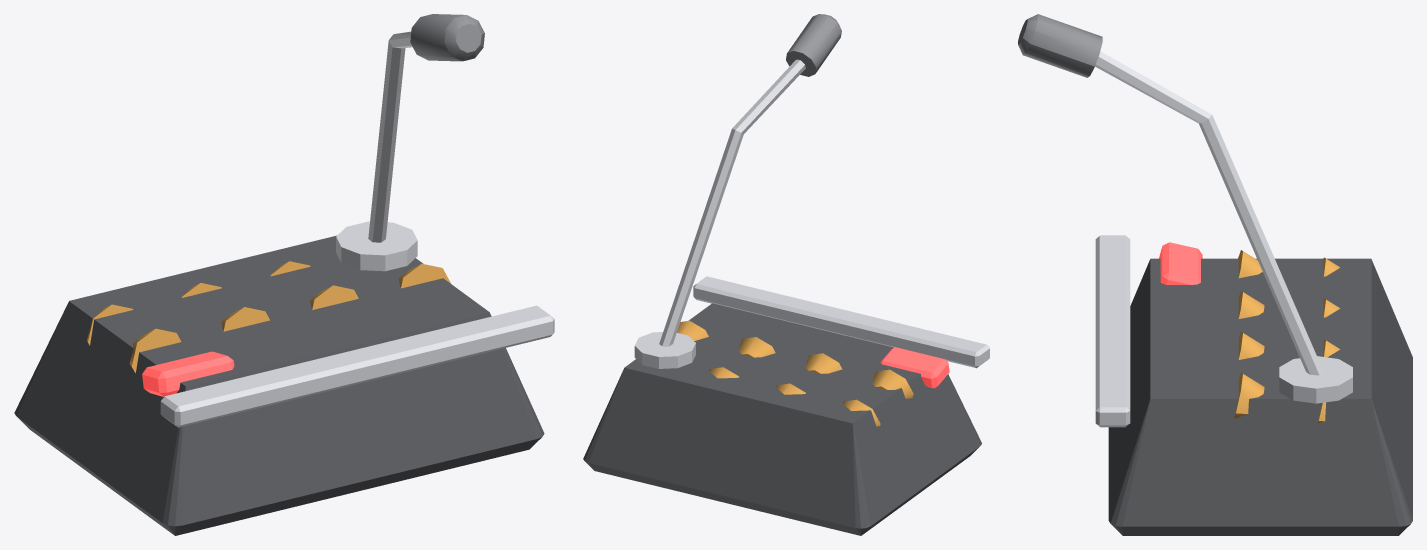
File: 35515_Talkback_Panel__TV_Studio_and_Broadcast_Gallery_.glb
The picture shows the model from 3 angles, left to right: view 1: azimuth 30°, elevation 25°; view 2: azimuth 150°, elevation 25°; view 3: azimuth 270°, elevation 25°; orthographic projection. The views are drawn at different scales.
Parts seen in each view (by area): view 1: talkback-panel; view 2: talkback-panel; view 3: talkback-panel.
Part boxes in pixels (x1,y1,x2,y2): talkback-panel: (14,14,554,535); talkback-panel: (583,14,989,535); talkback-panel: (1018,14,1412,535).
Size of the model in its own units: 0.3 by 0.3723 by 0.2856.
